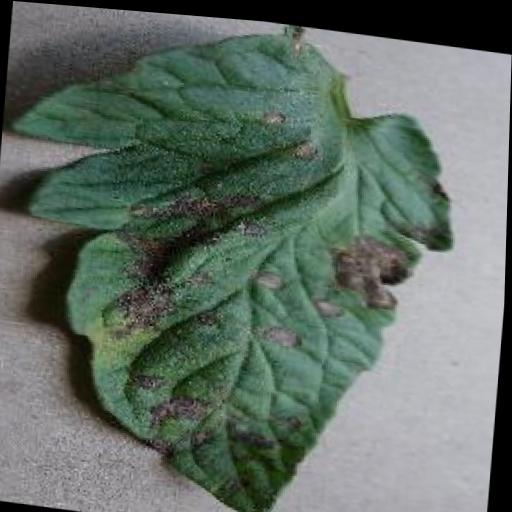Early Blight: (0, 0, 473, 512)
